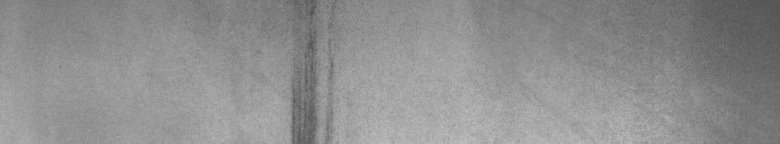ka: (284, 4, 343, 136)
